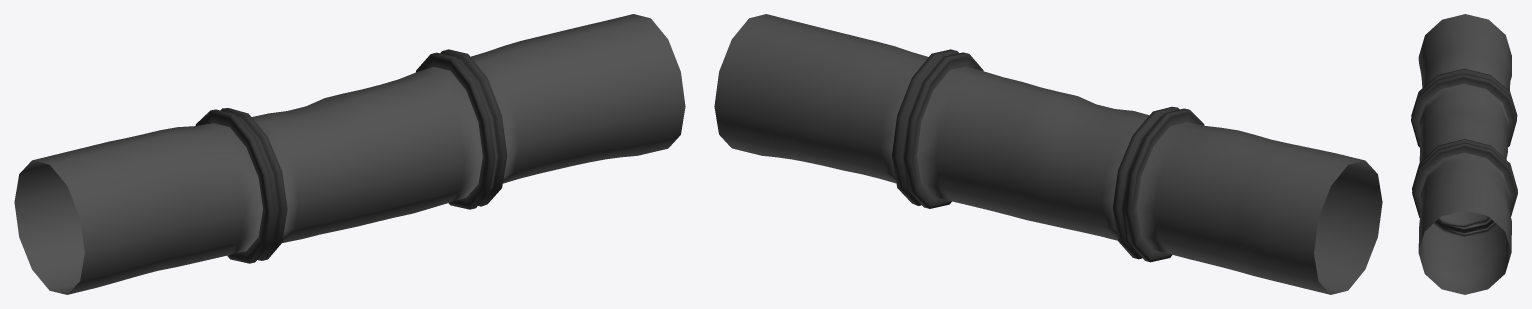
The model's file is Heaterpipe_straight2.0.fbx.
3 renders of one model, left to right at view 1: azimuth 30°, elevation 25°; view 2: azimuth 150°, elevation 25°; view 3: azimuth 270°, elevation 25°, orthographic. The views are drawn at different scales.
Visible parts, largest first — view 1: heater_pipe.001; view 2: heater_pipe.001; view 3: heater_pipe.001.
Boxes of the visible parts, bbox=[...] form: heater_pipe.001: bbox=[14, 14, 685, 294]; heater_pipe.001: bbox=[714, 14, 1382, 294]; heater_pipe.001: bbox=[1411, 14, 1517, 294].
Size of the model in its own units: 200 by 46.6 by 45.88.
Materials: 1 (1 with a texture image).
